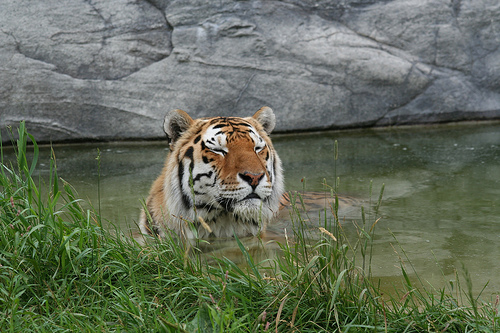Tigre: (150, 101, 296, 238)
